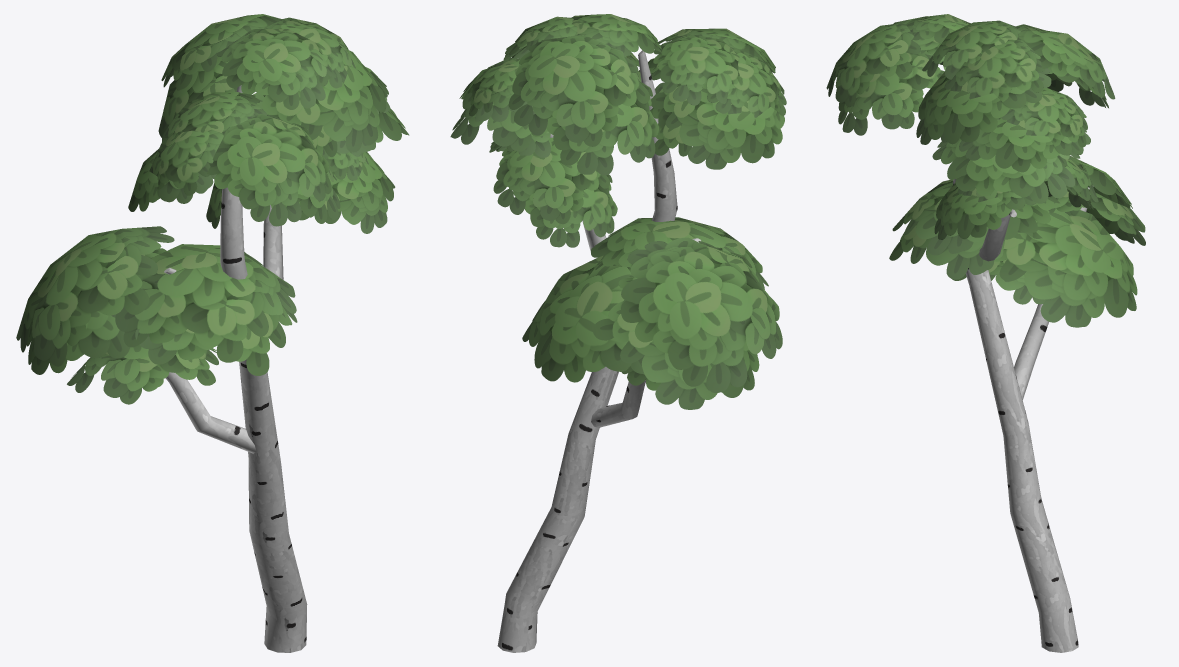
The model's file is Birch_1.gltf.
3 views of the same model, side by side, from view 1: azimuth 30°, elevation 25°; view 2: azimuth 150°, elevation 25°; view 3: azimuth 270°, elevation 25° (orthographic). The views are drawn at different scales.
Visible parts, largest first — view 1: Birch_9; view 2: Birch_9; view 3: Birch_9.
Boxes of the visible parts, x1,y1,x2,y2 form: Birch_9: [16, 14, 409, 652]; Birch_9: [450, 14, 786, 652]; Birch_9: [826, 14, 1145, 652].
Size of the model in its own units: 5.21 by 9.05 by 4.7.
2 materials, 2 textured.
